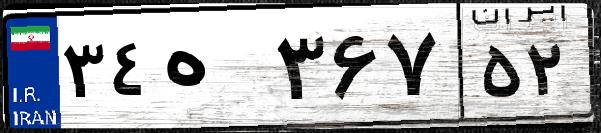2: (525, 38, 570, 115)
3: (270, 28, 330, 110), (57, 26, 110, 100)
4: (110, 28, 158, 98)
5: (475, 38, 525, 113)
6: (330, 28, 385, 110)
7: (385, 28, 445, 110)
ه: (158, 20, 270, 120)
